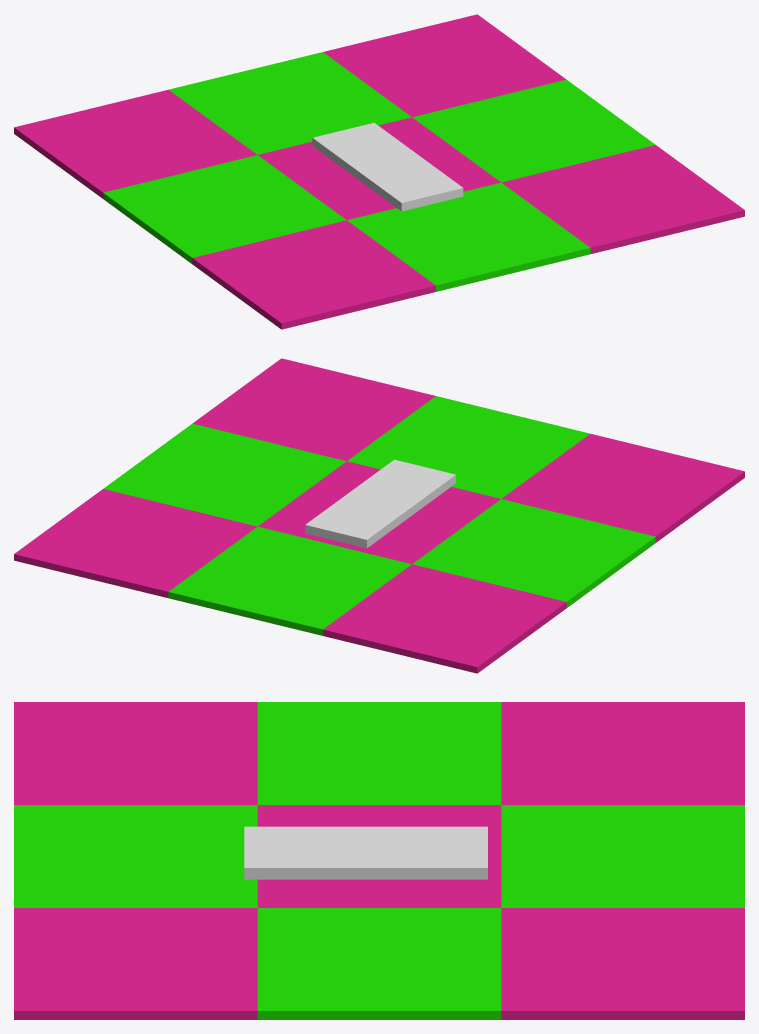
Rendered from plant_test.glb.
3 views of the same model, one above another, from view 1: azimuth 30°, elevation 25°; view 2: azimuth 150°, elevation 25°; view 3: azimuth 270°, elevation 25° (orthographic). The views are drawn at different scales.
Visible parts, largest first — view 1: single room, single room.008, single room.003, single room.001, single room.005, single room.007, single room.006, single room.004, single room.002, Cube solid.002; view 2: single room.005, single room.004, single room.006, single room.001, single room, single room.007, single room.008, single room.003, single room.002, Cube solid.002; view 3: single room.007, single room.006, single room.008, single room.001, single room, single room.004, single room.005, single room.003, single room.002, Cube solid.002.
Part boxes in pixels (box(x1,y1,x2,y2)): single room: box(192, 220, 435, 329); single room.008: box(501, 145, 744, 253); single room.003: box(347, 182, 590, 291); single room.001: box(103, 155, 346, 263); single room.005: box(14, 89, 256, 198); single room.007: box(412, 79, 655, 182); single room.006: box(323, 14, 566, 117); single room.004: box(169, 52, 411, 154); single room.002: box(258, 117, 500, 219); Cube solid.002: box(312, 122, 463, 211); single room.005: box(323, 564, 566, 673); single room.004: box(168, 526, 411, 635); single room.006: box(14, 489, 257, 597); single room.001: box(412, 499, 655, 607); single room: box(502, 433, 744, 542); single room.007: box(103, 423, 346, 526); single room.008: box(192, 358, 435, 461); single room.003: box(347, 396, 589, 498); single room.002: box(258, 461, 500, 563); Cube solid.002: box(305, 459, 455, 548); single room.007: box(257, 908, 501, 1019); single room.006: box(501, 908, 744, 1019); single room.008: box(14, 908, 257, 1019); single room.001: box(257, 702, 501, 804); single room: box(14, 702, 257, 804); single room.004: box(501, 805, 744, 907); single room.005: box(501, 702, 744, 804); single room.003: box(14, 805, 257, 907); single room.002: box(257, 805, 501, 907); Cube solid.002: box(244, 826, 487, 879).
Bounding box in the file's own units: 75 × 2.32 × 75.
